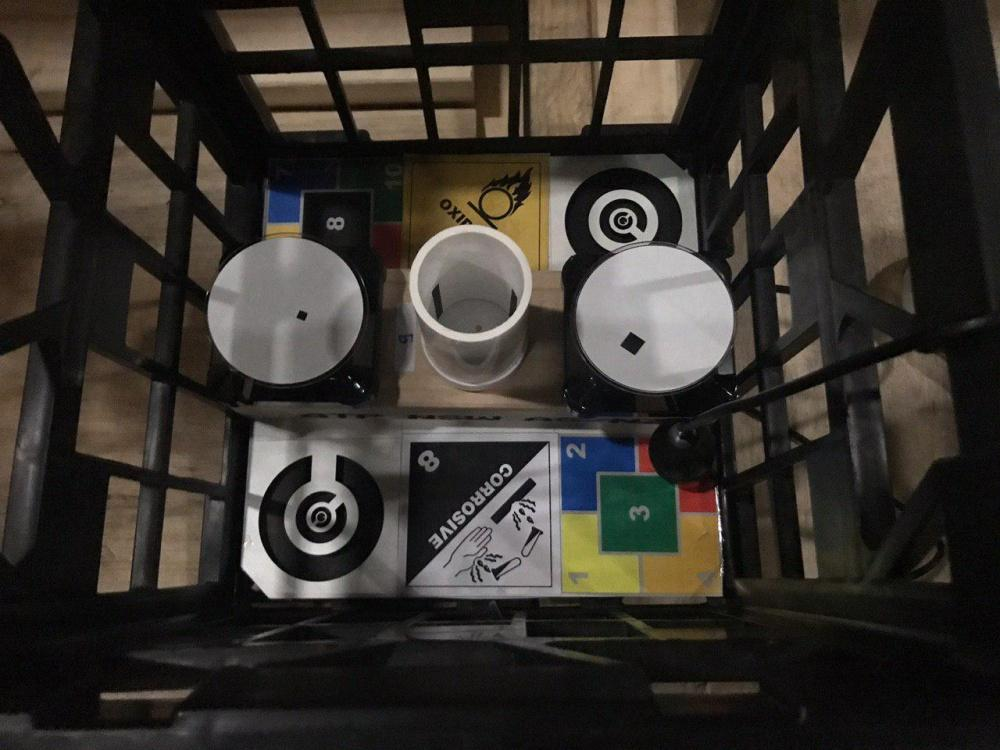corrosive: (408, 443, 556, 588)
oxidizer: (406, 157, 541, 263)
